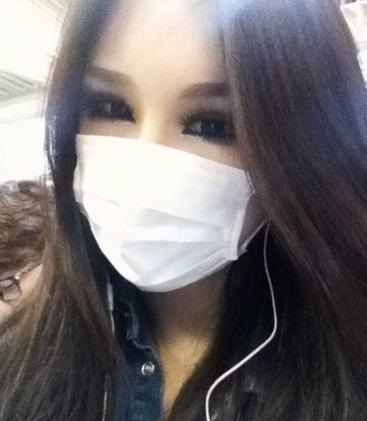face_mask: (65, 1, 262, 290)
